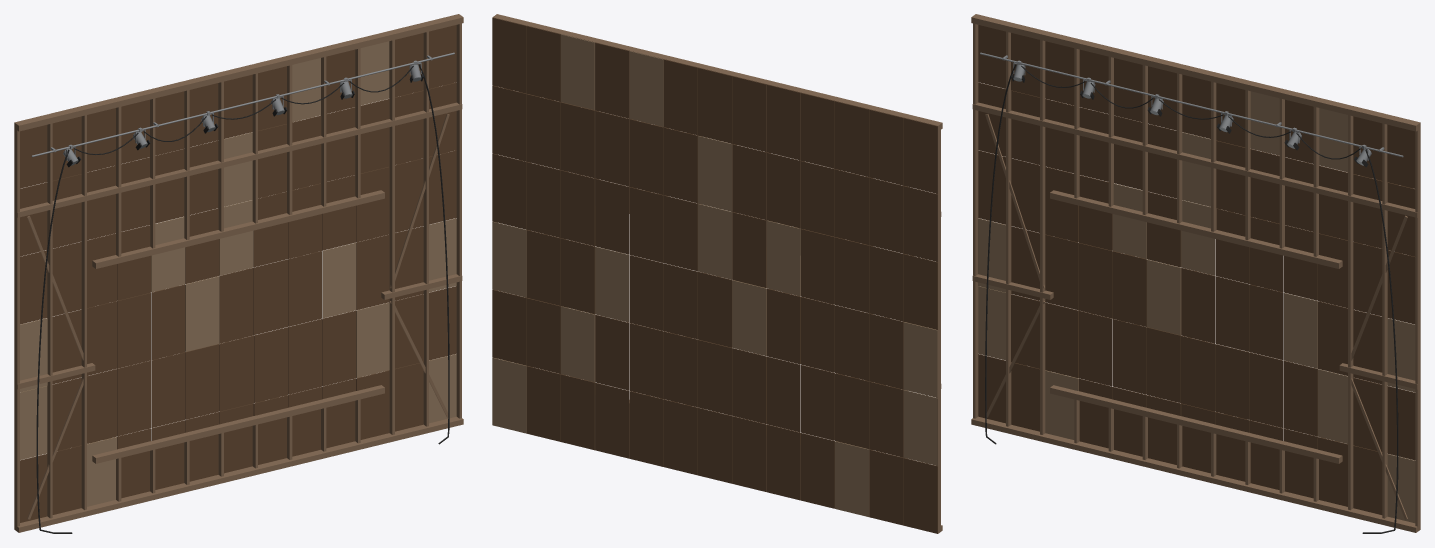
File: screen_block_face.glb
3 views of the same model, side by side, from view 1: azimuth 30°, elevation 25°; view 2: azimuth 150°, elevation 25°; view 3: azimuth 330°, elevation 25° (orthographic).
Parts seen in each view (by area): view 1: dark_wood__screen_block_face__solid, wood__screen_block_face__solid, plank__screen_block_face__solid, rubber__screen_block_face__ns, steel__screen_block_face__solid, metal__screen_block_face__solid; view 2: dark_wood__screen_block_face__solid, plank__screen_block_face__solid, wood__screen_block_face__solid; view 3: dark_wood__screen_block_face__solid, wood__screen_block_face__solid, plank__screen_block_face__solid, rubber__screen_block_face__ns, steel__screen_block_face__solid, metal__screen_block_face__solid.
Part boxes in pixels (x1=…): dark_wood__screen_block_face__solid: x1=20, y1=25, x2=456, y2=522; wood__screen_block_face__solid: x1=14, y1=14, x2=463, y2=532; plank__screen_block_face__solid: x1=20, y1=41, x2=456, y2=506; rubber__screen_block_face__ns: x1=36, y1=64, x2=449, y2=533; steel__screen_block_face__solid: x1=31, y1=52, x2=454, y2=160; metal__screen_block_face__solid: x1=63, y1=65, x2=421, y2=165; dark_wood__screen_block_face__solid: x1=492, y1=17, x2=937, y2=533; plank__screen_block_face__solid: x1=492, y1=34, x2=937, y2=516; wood__screen_block_face__solid: x1=492, y1=14, x2=942, y2=533; dark_wood__screen_block_face__solid: x1=978, y1=25, x2=1415, y2=514; wood__screen_block_face__solid: x1=971, y1=14, x2=1420, y2=532; plank__screen_block_face__solid: x1=978, y1=91, x2=1415, y2=523; rubber__screen_block_face__ns: x1=985, y1=64, x2=1398, y2=533; steel__screen_block_face__solid: x1=980, y1=52, x2=1403, y2=160; metal__screen_block_face__solid: x1=1013, y1=65, x2=1371, y2=165.
Bounding box in the file's own units: 16 × 14 × 1.22.
